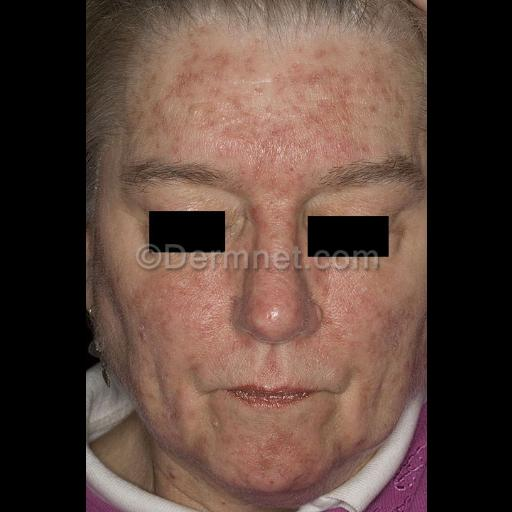Skin_Lesion: (180, 72, 364, 160), (246, 170, 296, 260), (231, 437, 323, 485), (201, 288, 225, 336), (340, 274, 360, 322), (390, 222, 408, 258), (165, 390, 181, 426), (134, 312, 148, 344), (315, 271, 331, 295)
